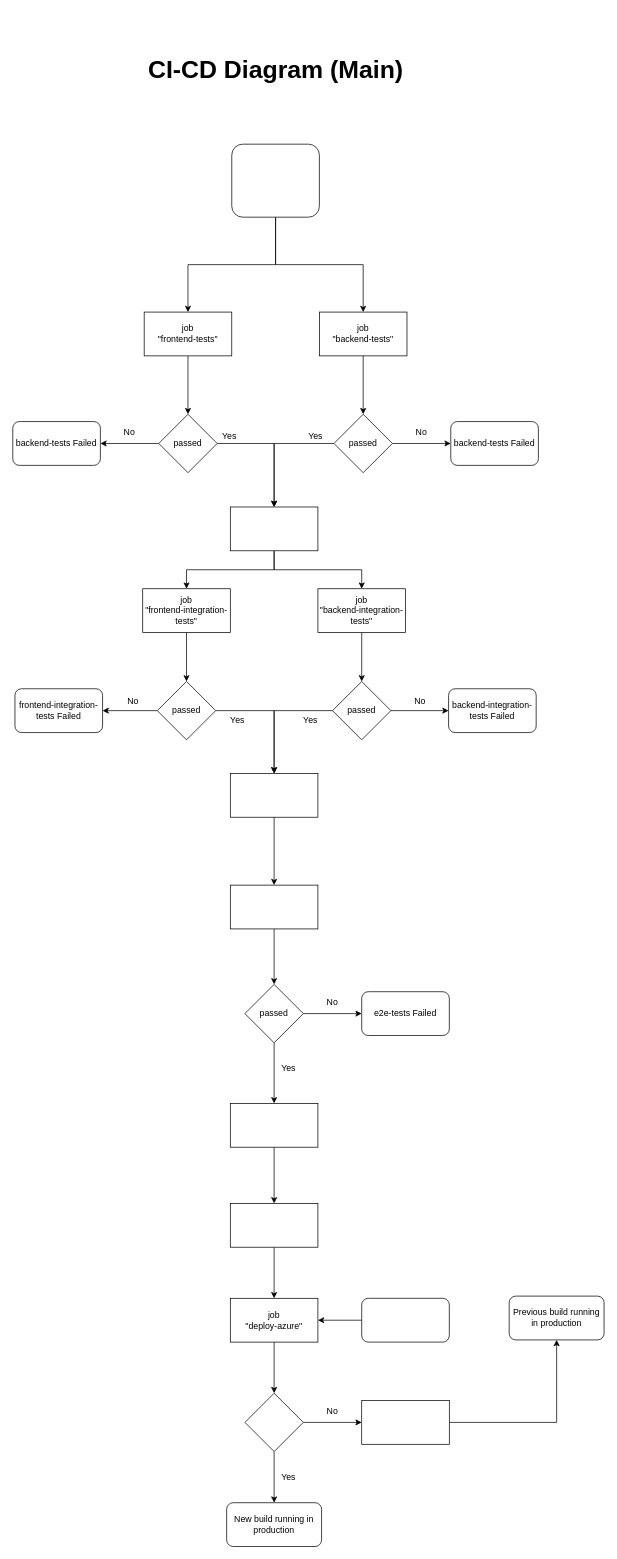
This 617x1559 diagram has some shape labels left out. Each missing label, with the centre of its shape:
(Main-CD.yml) triggered by push to main: point 274,1225
(Main-CD.yml) workflow dispatch: point 405,1320
(Main-CI.yml) PR into main or workflow dispatch: point 275,180
e2e tests Passed: point 274,1125
integration tests Passed: point 274,795
job "e2e-tests": point 274,906
job "rollback": point 405,1422
success: point 273,1422
unit tests Passed: point 274,528
